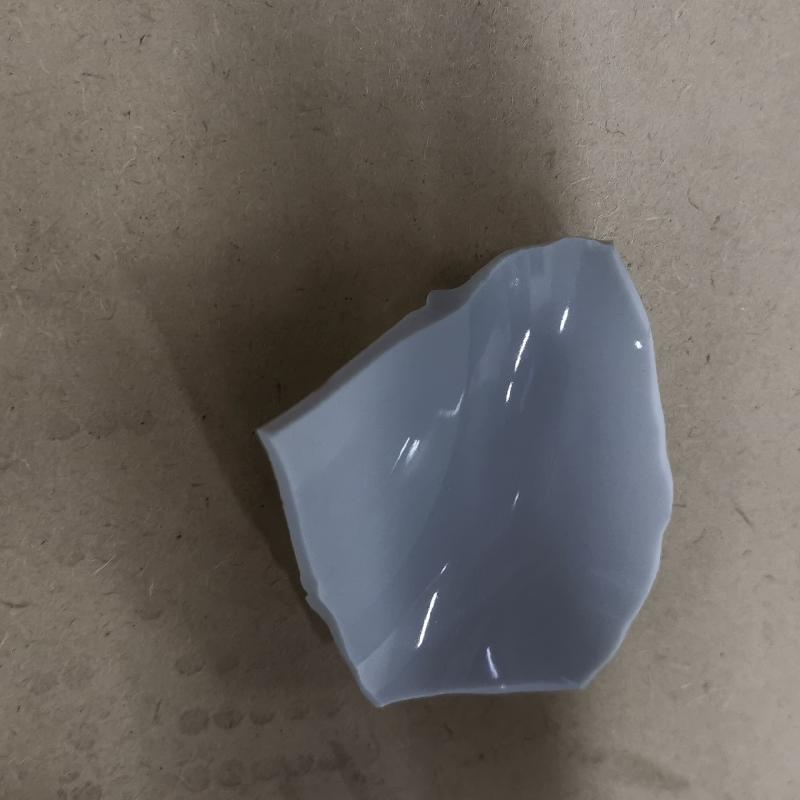ceram: (248, 233, 676, 712)
